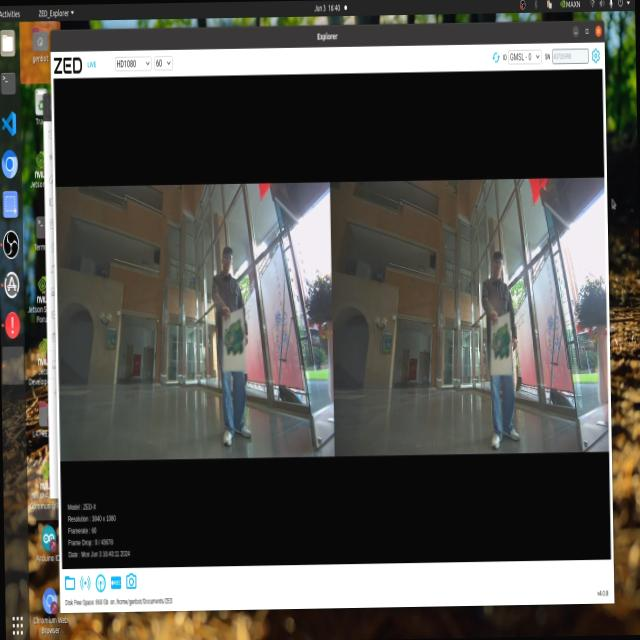green: (223, 310, 250, 360), (489, 317, 508, 367)
